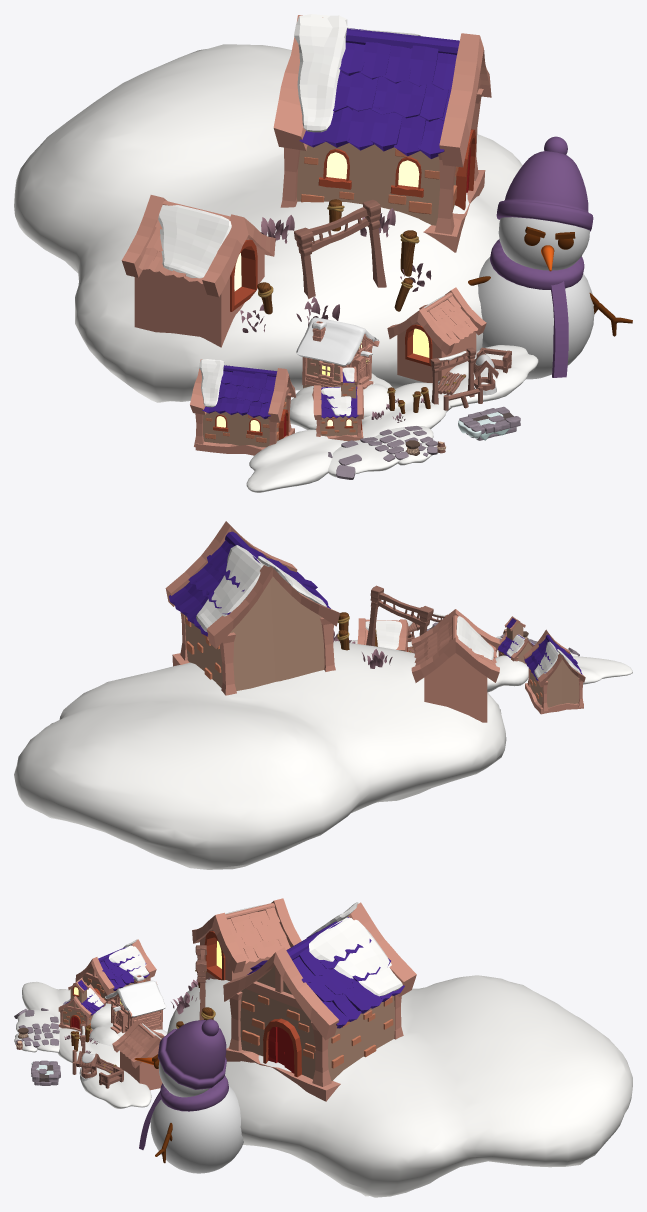
File: Env3Winter.fbx
3 views of the same model, one above another, from view 1: azimuth 30°, elevation 25°; view 2: azimuth 150°, elevation 25°; view 3: azimuth 270°, elevation 25° (orthographic). The views are drawn at different scales.
Parts seen in each view (by area): view 1: SnowPile.006, house01.001, Snowman, House, house01, house, House03, SnowPile.003, SnowPile, Plane.002, House02, SnowPile.004 (+6 smaller); view 2: SnowPile.006, house01.001, House, house01, Plane.002, house, SnowPile.003, House02, SnowPile.002; view 3: SnowPile.006, house01.001, Snowman, House, house01, House03, house, SnowPile, SnowPile.005, House02, SnowPile.003, SnowPile.004 (+5 smaller).
Boxes of the visible parts, box(x1,y1,x2,y2) form: SnowPile.006: box(14, 44, 522, 402); house01.001: box(273, 14, 491, 252); Snowman: box(468, 136, 632, 379); House: box(121, 195, 275, 347); house01: box(190, 359, 295, 455); house: box(387, 287, 486, 384); House03: box(296, 317, 379, 389); SnowPile.003: box(246, 429, 347, 492); SnowPile: box(327, 426, 438, 479); Plane.002: box(294, 199, 386, 298); House02: box(312, 366, 363, 441); SnowPile.004: box(361, 382, 451, 438); SnowPile.006: box(14, 640, 506, 869); house01.001: box(165, 521, 340, 695); House: box(411, 609, 499, 722); house01: box(523, 629, 585, 714); Plane.002: box(366, 585, 433, 646); house: box(357, 618, 409, 651); SnowPile.003: box(572, 656, 632, 684); House02: box(497, 616, 534, 664); SnowPile.002: box(487, 655, 528, 692); SnowPile.006: box(167, 975, 632, 1197); house01.001: box(223, 902, 416, 1101); Snowman: box(134, 1019, 243, 1173); House: box(192, 898, 301, 980); house01: box(75, 939, 156, 1003); House03: box(105, 974, 165, 1033); house: box(112, 1019, 164, 1090); SnowPile: box(14, 1008, 61, 1052); SnowPile.005: box(79, 1067, 151, 1108); House02: box(58, 978, 106, 1033); SnowPile.003: box(22, 981, 70, 1020); SnowPile.004: box(58, 1028, 119, 1067).
Bounding box in the file's own units: 19601 × 11442 × 27347.
30 materials, 1 textured.
